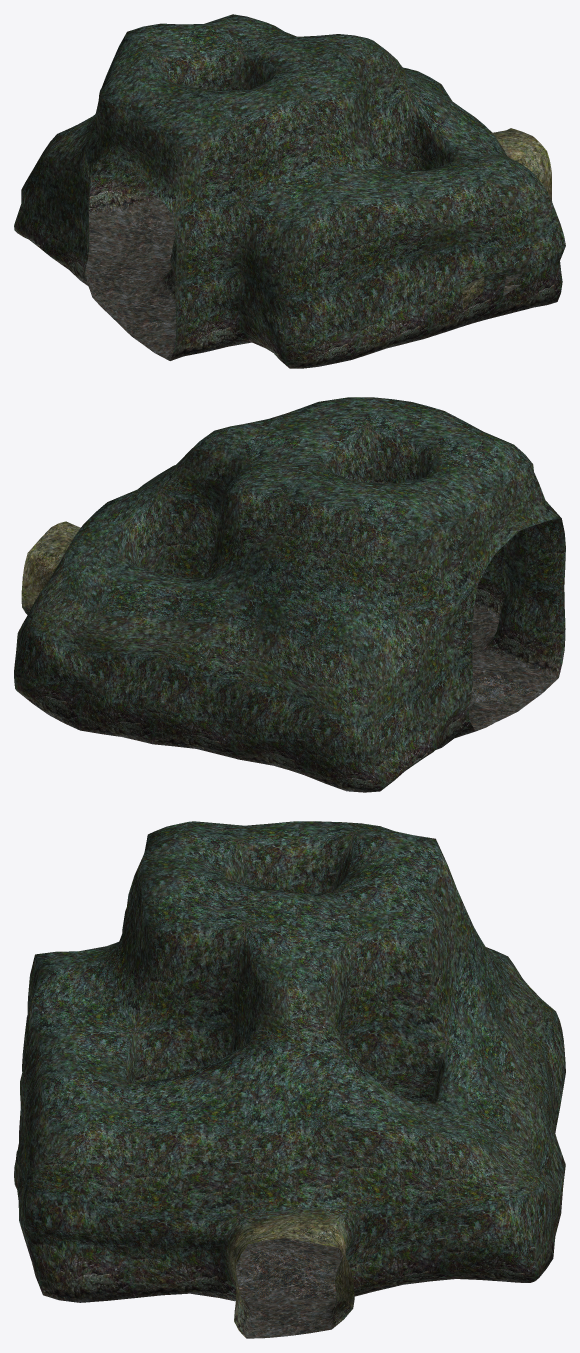
Rendered from thm_all_cave_s02_damprock_mirror_r8_mesh_r8.fbx.
3 renders of one model, top to bottom at view 1: azimuth 30°, elevation 25°; view 2: azimuth 150°, elevation 25°; view 3: azimuth 270°, elevation 25°, orthographic. The views are drawn at different scales.
Visible parts, largest first — view 1: mesh_node; view 2: mesh_node; view 3: mesh_node.
Boxes of the visible parts, x1,y1,x2,y2 form: mesh_node: (14, 14, 565, 368); mesh_node: (14, 397, 565, 792); mesh_node: (14, 821, 565, 1338).
Size of the model in its own units: 58.71 by 31.67 by 51.96.
